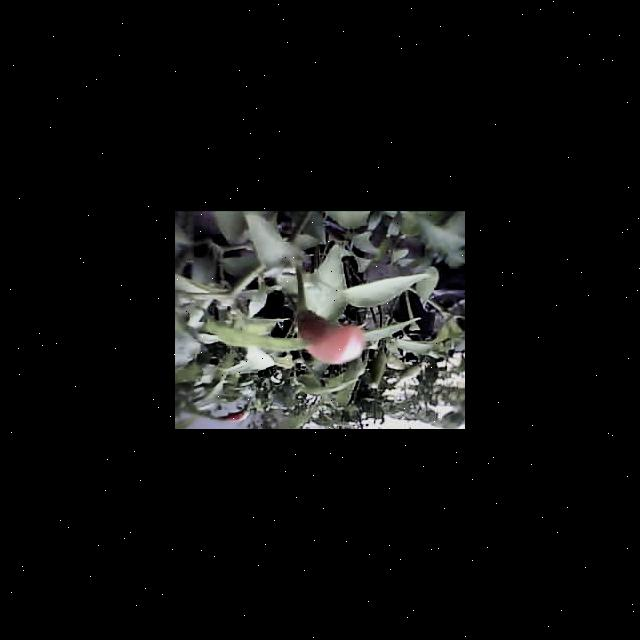Cabai: (290, 302, 370, 366)
